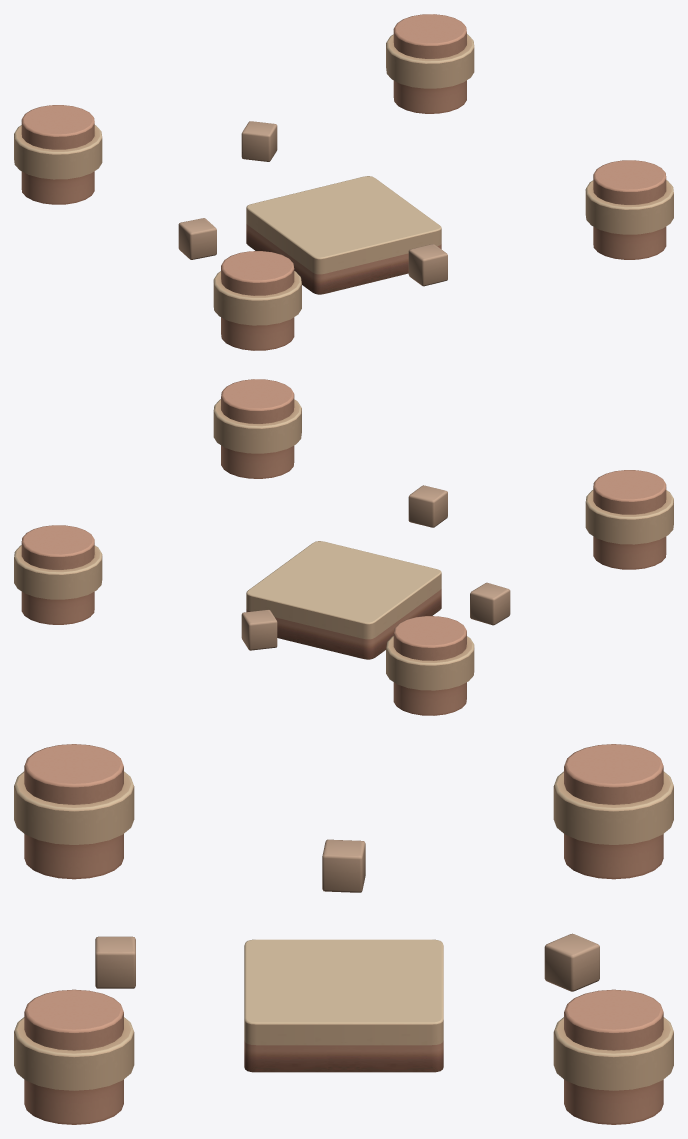
The model's file is Props.fbx.
3 views of the same model, one above another, from view 1: azimuth 30°, elevation 25°; view 2: azimuth 150°, elevation 25°; view 3: azimuth 270°, elevation 25° (orthographic). The views are drawn at different scales.
Visible parts, largest first — view 1: Box02, Cylinder-3, Cylinder-3 (1), Cylinder-3 (2), Cylinder-3 (3), Box1-6 (1), Box1-6 (3), Box1-6 (2); view 2: Box02, Cylinder-3 (2), Cylinder-3 (3), Cylinder-3, Cylinder-3 (1), Box1-6 (3), Box1-6 (1), Box1-6 (2); view 3: Box02, Cylinder-3, Cylinder-3 (2), Cylinder-3 (1), Cylinder-3 (3), Box1-6 (2), Box1-6 (3), Box1-6 (1).
Part boxes in pixels (left/top/right/bottom): Box02: left=246, top=176, right=441, bottom=294; Cylinder-3: left=213, top=251, right=301, bottom=350; Cylinder-3 (1): left=585, top=160, right=673, bottom=259; Cylinder-3 (2): left=14, top=105, right=102, bottom=204; Cylinder-3 (3): left=386, top=14, right=474, bottom=113; Box1-6 (1): left=408, top=244, right=447, bottom=286; Box1-6 (3): left=178, top=218, right=216, bottom=259; Box1-6 (2): left=241, top=121, right=277, bottom=161; Box02: left=246, top=541, right=441, bottom=659; Cylinder-3 (2): left=386, top=616, right=474, bottom=715; Cylinder-3 (3): left=14, top=525, right=102, bottom=624; Cylinder-3: left=585, top=470, right=673, bottom=569; Cylinder-3 (1): left=213, top=379, right=301, bottom=478; Box1-6 (3): left=470, top=582, right=510, bottom=625; Box1-6 (1): left=408, top=485, right=447, bottom=527; Box1-6 (2): left=241, top=609, right=277, bottom=650; Box02: left=244, top=939, right=443, bottom=1072; Cylinder-3: left=14, top=744, right=134, bottom=879; Cylinder-3 (2): left=553, top=744, right=673, bottom=879; Cylinder-3 (1): left=14, top=989, right=134, bottom=1124; Cylinder-3 (3): left=553, top=989, right=673, bottom=1124; Box1-6 (2): left=544, top=933, right=599, bottom=991; Box1-6 (3): left=322, top=839, right=365, bottom=892; Box1-6 (1): left=95, top=936, right=135, bottom=988.
Size of the model in its own units: 33.79 by 7.62 by 31.79.
